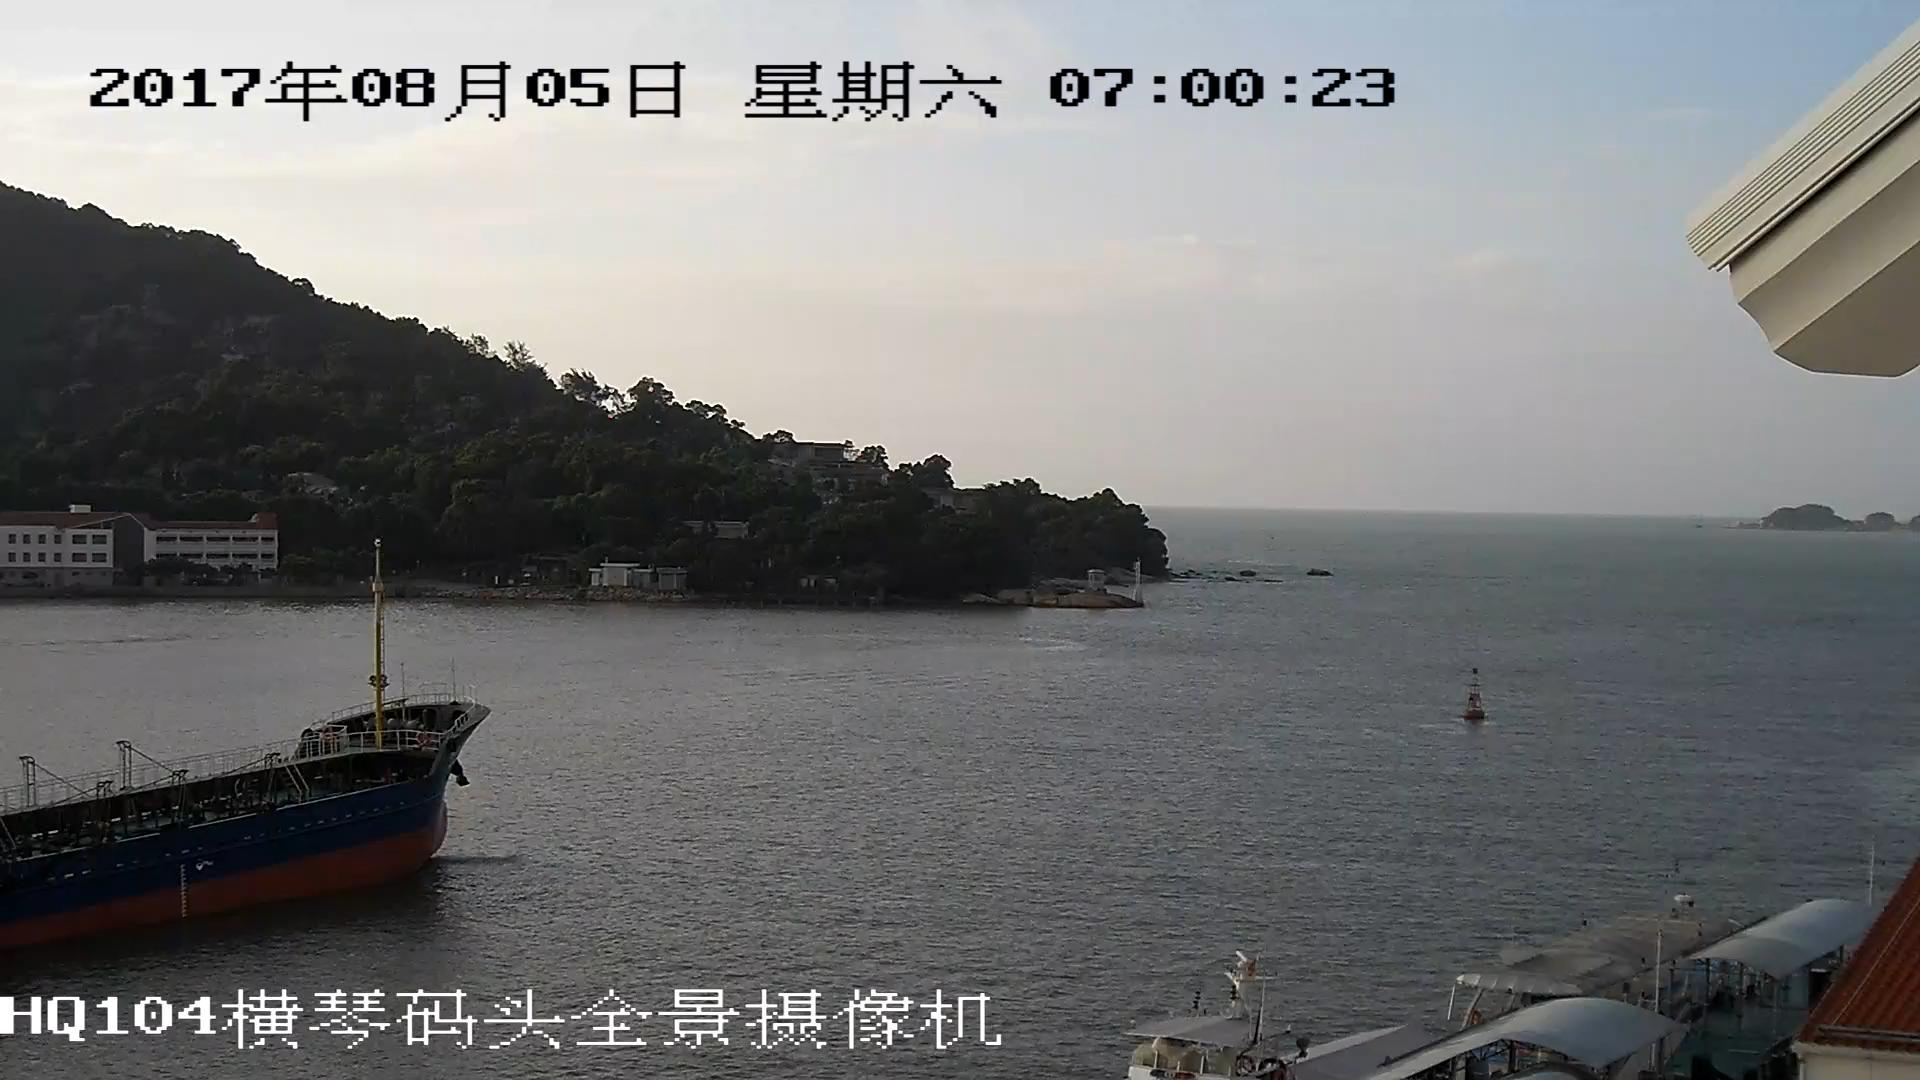Ship: (3, 539, 487, 980)
